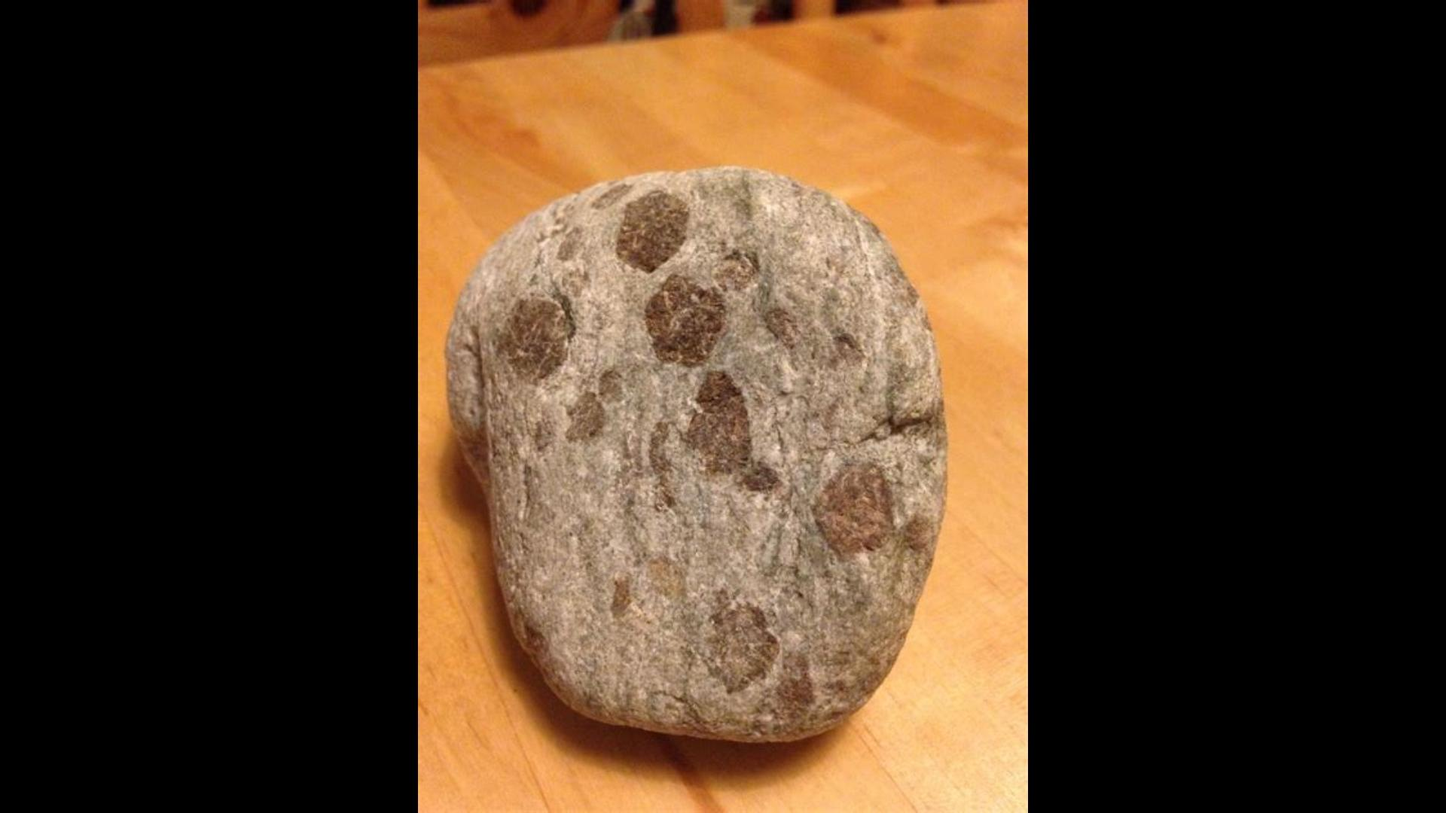rock: (484, 172, 941, 738)
